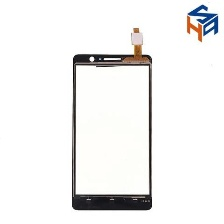phone: (69, 50, 157, 212)
